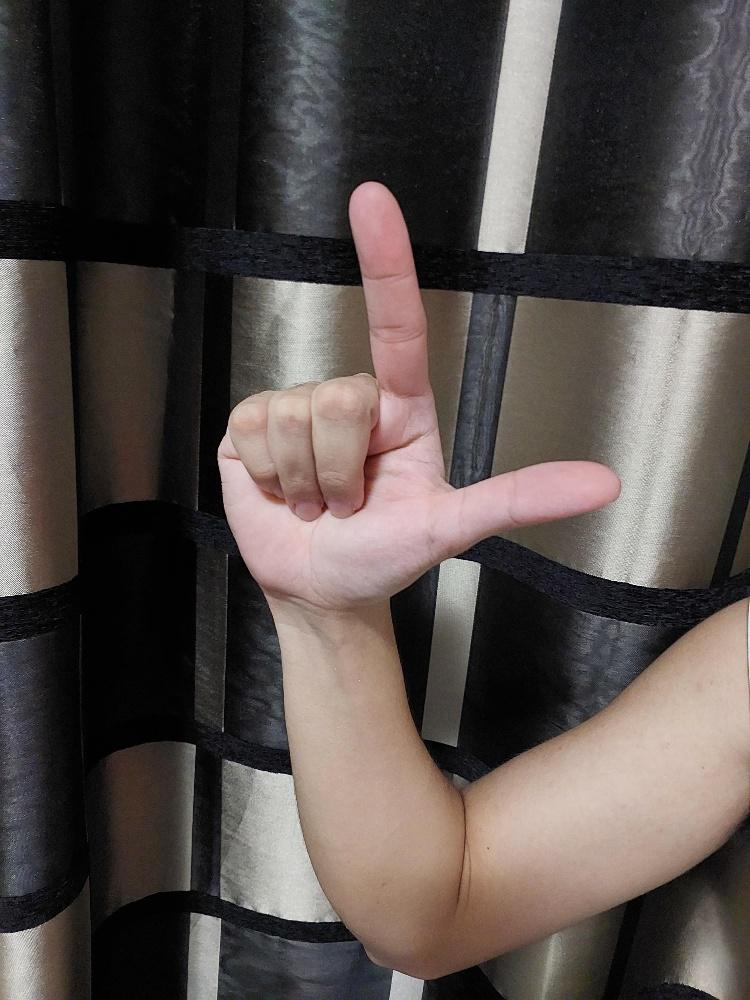l: (213, 176, 624, 615)
